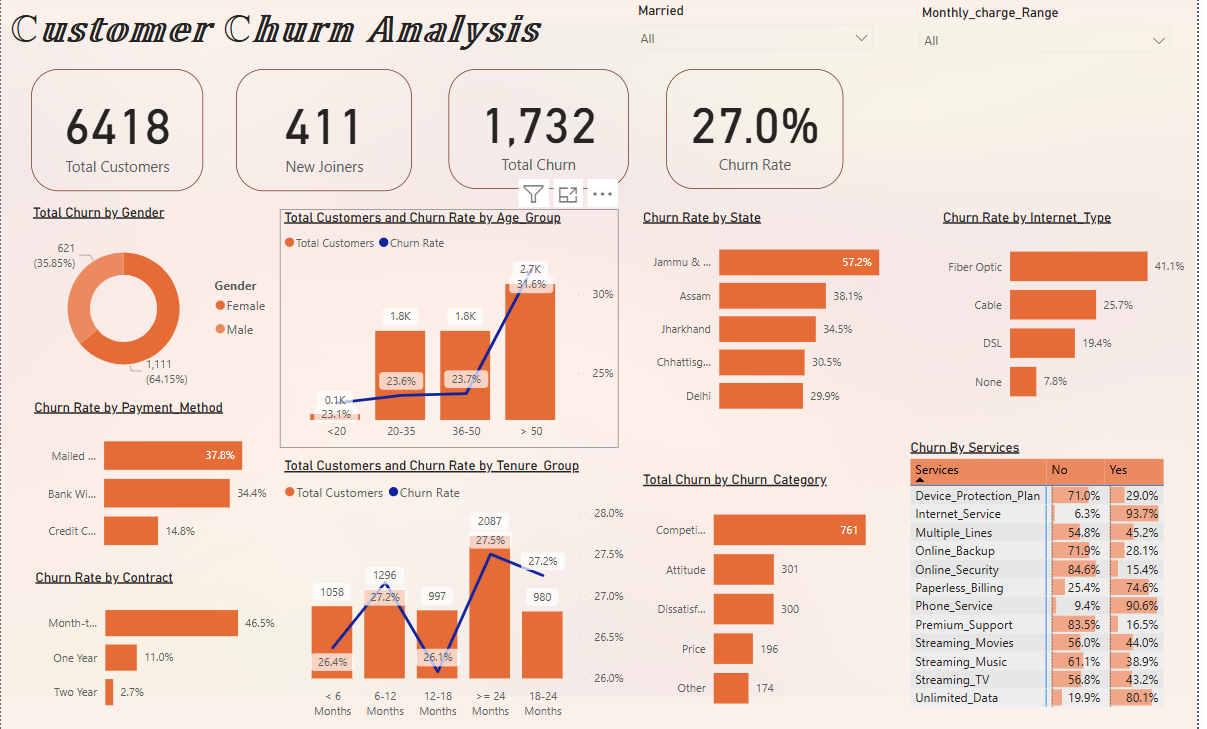

The page's visual inventory and layout, read from the dashboard file:
{"tool":"powerbi","page":{"name":"Summary","canvas":[1500,800],"ordinal":0},"visuals":[{"type":"card","fields":{"Values":["Table_Measure.Total Customers"]},"box":[54.3,92.4,187.5,133.2],"z":0},{"type":"card","fields":{"Values":["Table_Measure.New Joiners"]},"box":[290.8,92.4,191.6,133.2],"z":1000},{"type":"card","fields":{"Values":["Table_Measure.Churn Rate"]},"box":[777.2,92.4,192.9,130.4],"z":2000},{"type":"card","fields":{"Values":["Table_Measure.Total Churn"]},"box":[532.6,92.4,195.7,130.4],"z":3000},{"type":"donutChart","fields":{"Category":["churn_db prod1_churn.Gender"],"Y":["Table_Measure.Total Churn"]},"box":[14.9,235.1,327.4,210.6],"z":4000},{"type":"lineStackedColumnComboChart","fields":{"Category":["Mapping_AgeGroup.Age_Group"],"Y":["Table_Measure.Total Customers"],"Y2":["Table_Measure.Churn Rate"]},"box":[357.3,244.6,476.9,259.5],"z":5000},{"type":"clusteredBarChart","fields":{"Category":["churn_db prod1_churn.Payment_Method"],"Y":["Table_Measure.Churn Rate"]},"box":[16.3,440.2,326.1,182.1],"z":6000},{"type":"clusteredBarChart","fields":{"Category":["churn_db prod1_churn.Contract"],"Y":["Table_Measure.Churn Rate"]},"box":[16.3,625,326.1,169.8],"z":7000},{"type":"lineStackedColumnComboChart","fields":{"Category":["Mapping_TenureGroup.Tenure_Group"],"Y":["Table_Measure.Total Customers"],"Y2":["Table_Measure.Churn Rate"]},"box":[342.4,509.5,491.9,290.8],"z":8000},{"type":"clusteredBarChart","fields":{"Category":["churn_db prod1_churn.State"],"Y":["Table_Measure.Churn Rate"]},"box":[834.2,235.1,326.1,255.4],"z":9000},{"type":"clusteredBarChart","fields":{"Category":["churn_db prod1_churn.Churn_Category"],"Y":["Table_Measure.Total Churn"]},"box":[858.7,502.7,301.6,292.1],"z":10000},{"type":"clusteredBarChart","fields":{"Category":["churn_db prod1_churn.Internet_Type"],"Y":["Table_Measure.Churn Rate"]},"box":[1160.3,173.9,324.7,245.9],"z":11000},{"type":"pivotTable","title":"Churn By Services","fields":{"Rows":["Prod_Services.Services"],"Columns":["Prod_Services.Status"],"Values":["Sum(Prod_Services.Churn_status)"]},"box":[1190.2,434.8,294.8,360.1],"z":12000},{"type":"slicer","fields":{"Values":["churn_db prod1_churn.Monthly_charge_status"]},"box":[1106,6.8,293.5,74.7],"z":13000},{"type":"slicer","fields":{"Values":["churn_db prod1_churn.Married"]},"box":[777.2,4.1,278.5,77.4],"z":14000},{"type":"textbox","box":[4.1,0,622.3,107.3],"z":15000},{"type":"shape","box":[1180.7,96.5,264.9,51.6],"z":16000}]}

Visuals, with their boxes on the page's 1500x800 design canvas (x1, y1, x2, y2). These are canvas units, not pixel positions in the 1207x729 screenshot, which may show the page scaled, cropped or inside an application window:
card - Table_Measure.Total Customers: (x1=54, y1=92, x2=242, y2=226)
card - Table_Measure.New Joiners: (x1=291, y1=92, x2=482, y2=226)
card - Table_Measure.Churn Rate: (x1=777, y1=92, x2=970, y2=223)
card - Table_Measure.Total Churn: (x1=533, y1=92, x2=728, y2=223)
donutChart - churn_db prod1_churn.Gender x Table_Measure.Total Churn: (x1=15, y1=235, x2=342, y2=446)
lineStackedColumnComboChart - Mapping_AgeGroup.Age_Group x Table_Measure.Total Customers: (x1=357, y1=245, x2=834, y2=504)
clusteredBarChart - churn_db prod1_churn.Payment_Method x Table_Measure.Churn Rate: (x1=16, y1=440, x2=342, y2=622)
clusteredBarChart - churn_db prod1_churn.Contract x Table_Measure.Churn Rate: (x1=16, y1=625, x2=342, y2=795)
lineStackedColumnComboChart - Mapping_TenureGroup.Tenure_Group x Table_Measure.Total Customers: (x1=342, y1=510, x2=834, y2=800)
clusteredBarChart - churn_db prod1_churn.State x Table_Measure.Churn Rate: (x1=834, y1=235, x2=1160, y2=490)
clusteredBarChart - churn_db prod1_churn.Churn_Category x Table_Measure.Total Churn: (x1=859, y1=503, x2=1160, y2=795)
clusteredBarChart - churn_db prod1_churn.Internet_Type x Table_Measure.Churn Rate: (x1=1160, y1=174, x2=1485, y2=420)
"Churn By Services" pivotTable: (x1=1190, y1=435, x2=1485, y2=795)
slicer - churn_db prod1_churn.Monthly_charge_status: (x1=1106, y1=7, x2=1400, y2=82)
slicer - churn_db prod1_churn.Married: (x1=777, y1=4, x2=1056, y2=82)
textbox: (x1=4, y1=0, x2=626, y2=107)
shape: (x1=1181, y1=96, x2=1446, y2=148)
